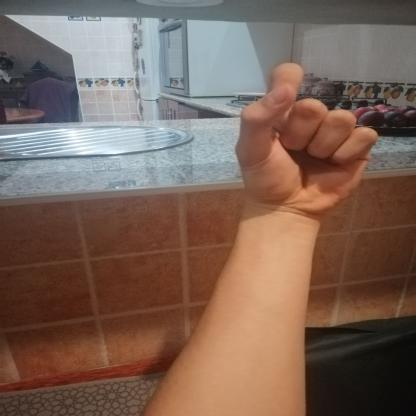FAA: (217, 51, 389, 232)
